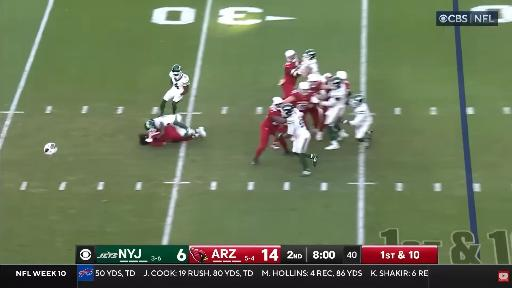Helmet: (43, 142, 58, 155), (307, 74, 321, 87), (349, 95, 364, 107), (282, 104, 294, 117), (298, 82, 310, 94), (303, 49, 316, 60), (172, 65, 182, 79), (331, 77, 342, 89), (285, 50, 296, 61), (307, 74, 320, 83), (272, 97, 283, 107), (145, 120, 156, 130), (323, 73, 332, 83), (336, 71, 347, 79), (324, 73, 332, 79)
Jersey: (287, 109, 310, 138), (148, 126, 180, 146), (350, 102, 373, 126), (321, 85, 346, 107), (290, 90, 312, 111), (262, 107, 281, 129), (283, 60, 299, 86), (328, 84, 347, 103), (170, 72, 189, 90), (154, 115, 181, 127), (302, 59, 320, 75), (310, 83, 322, 94), (343, 81, 350, 91)
Player: (279, 104, 317, 176), (320, 77, 347, 150), (343, 95, 373, 148), (308, 74, 331, 140), (160, 65, 190, 115), (284, 82, 318, 124), (145, 115, 205, 137), (279, 50, 304, 98), (139, 126, 197, 146), (279, 50, 301, 98), (302, 50, 320, 75), (336, 71, 351, 97), (316, 107, 327, 141), (277, 138, 289, 154), (323, 73, 333, 85)
